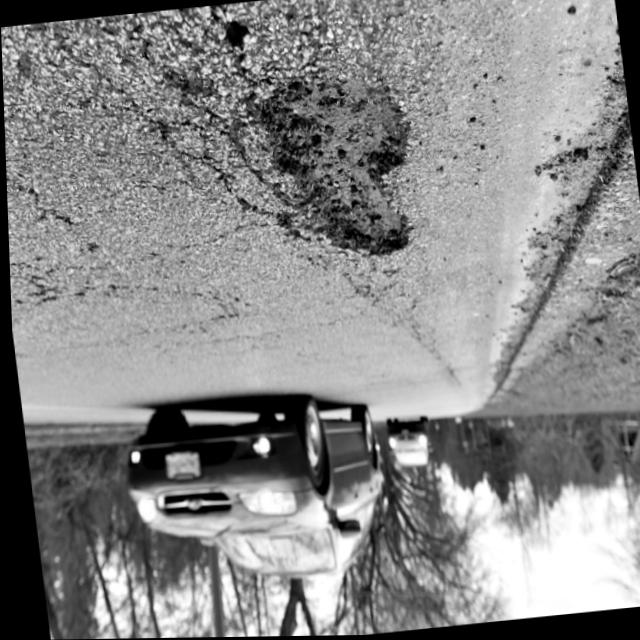pathole: (237, 0, 522, 295)
